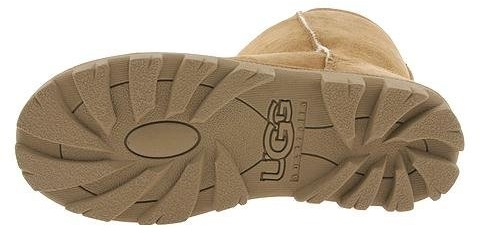circle: (122, 112, 214, 167)
text: (262, 93, 311, 140), (257, 145, 305, 188)
triangle: (319, 78, 370, 147), (208, 142, 254, 214)
